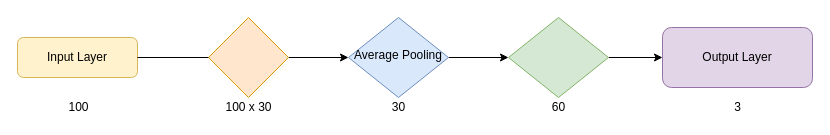
Some shapes in this 830 by 135 pixel diagram are drawn without their labels. The centre of each missing label's shape, as x and y in pixels:
Embedding Layer: the point at 248,57
Hidden Layer: the point at 558,57
